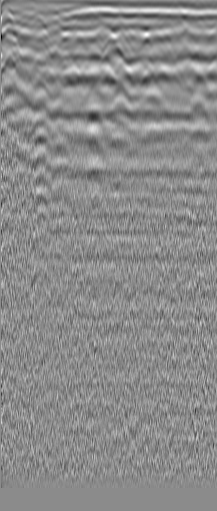오수: (28, 12, 48, 32)
우수: (174, 42, 194, 62)
